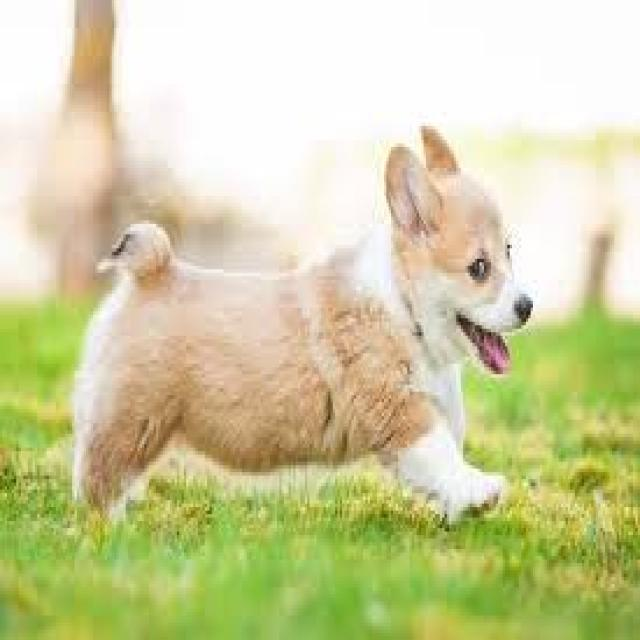CORGI: (46, 109, 528, 557)
